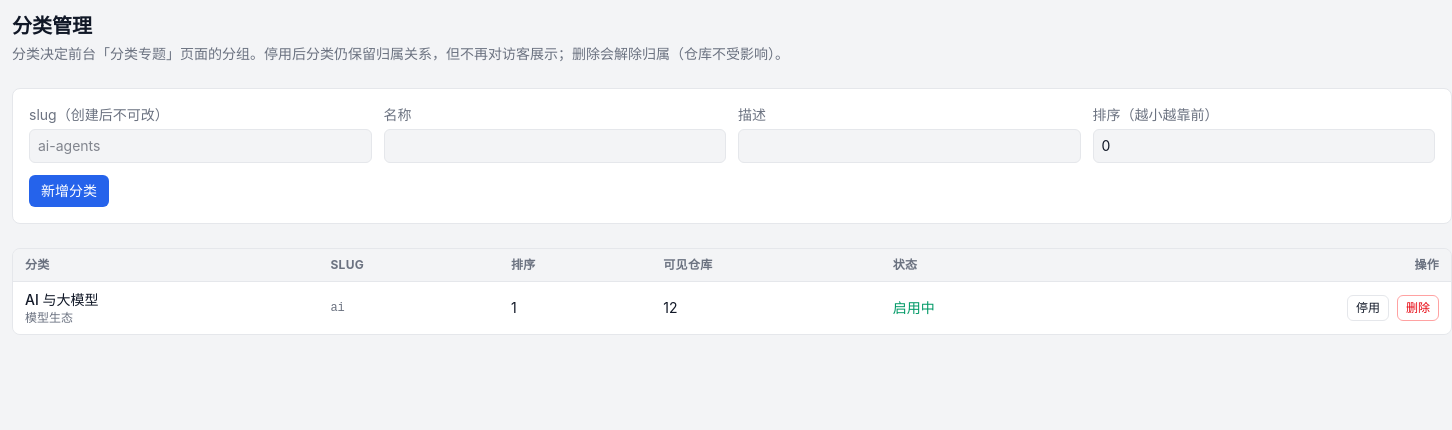
it: AdminCategoriesPage › deletes a category after confirmation
Click the button with test id "delete-category-1" at (1418,308), box [1397, 295, 1439, 321]
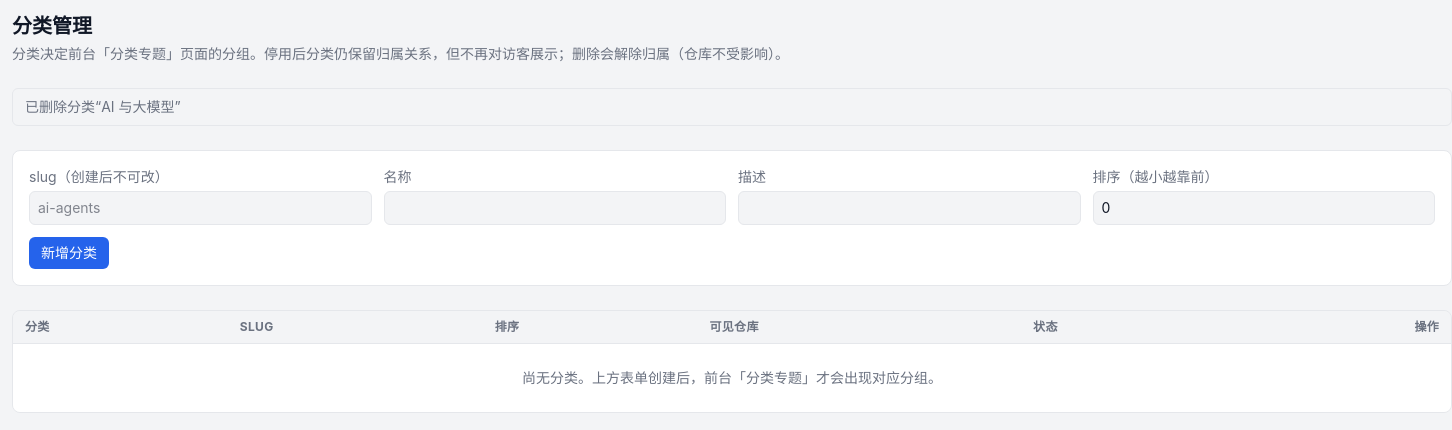
Expected: the text "已删除分类“AI 与大模型”" is shown, [12, 88, 1451, 126]
